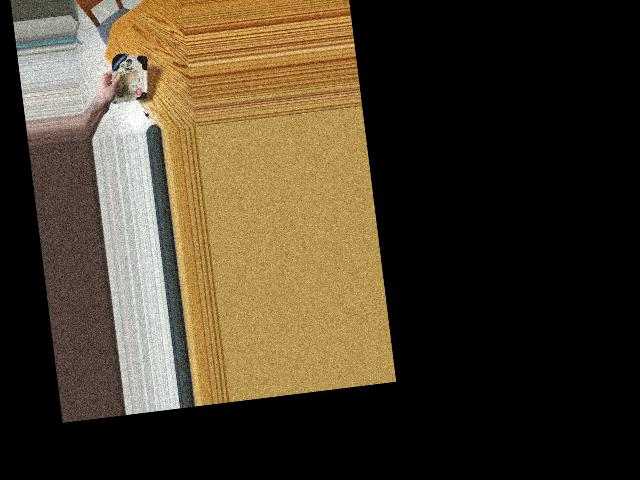cheese: (106, 49, 148, 110)
